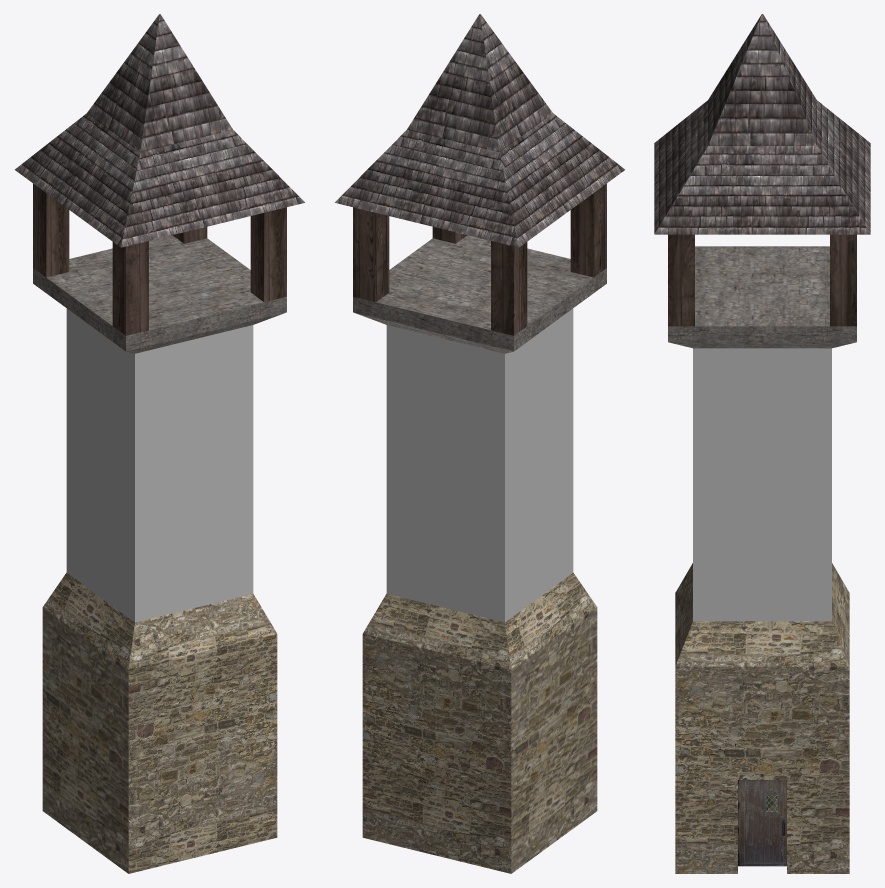
The model's file is VillageTower.fbx.
3 views of the same model, side by side, from view 1: azimuth 30°, elevation 25°; view 2: azimuth 150°, elevation 25°; view 3: azimuth 270°, elevation 25° (orthographic).
Visible parts, largest first — view 1: VillageTower; view 2: VillageTower; view 3: VillageTower.
Part boxes in pixels (box(x1,y1,x2,y2)): VillageTower: box(15, 14, 304, 873); VillageTower: box(335, 14, 624, 873); VillageTower: box(654, 14, 870, 873).
Bounding box in the file's own units: 614 × 2574 × 614.
